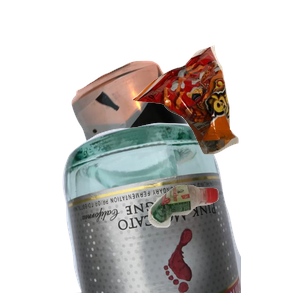glass: (60, 120, 300, 300)
metal: (69, 58, 300, 238)
plastic: (146, 182, 300, 300)
trash: (130, 43, 300, 190)
